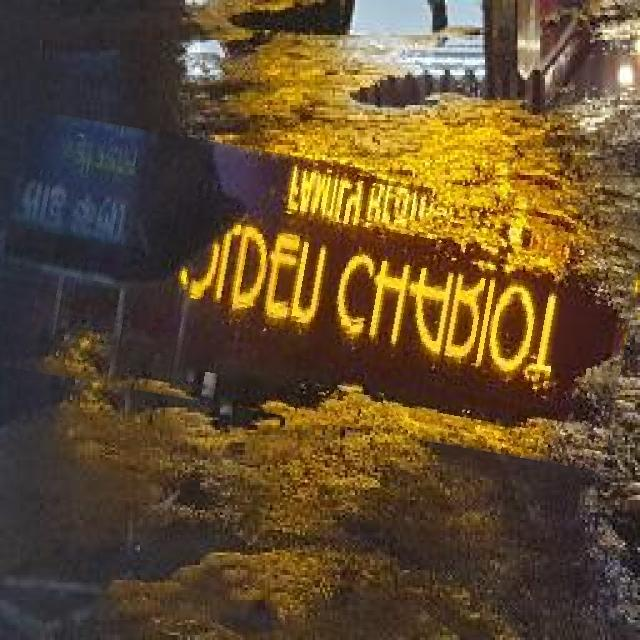puddle: (1, 136, 638, 447)
